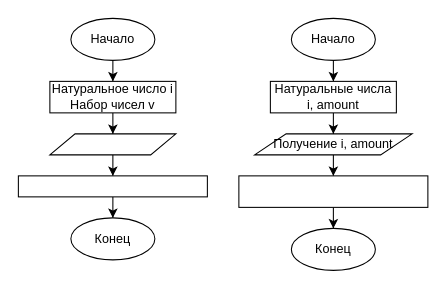
This 446x289 diagram has some shape labels left out. Here are the shapes that lost their labels. From the top down, the box of each, then its label:
(49, 133, 176, 155): Получение i, v
(17, 175, 207, 197): store.insert(store.begin() + i, v)
(238, 175, 428, 207): store.erase(store.begin() + i, store.begin() + i + amount)
